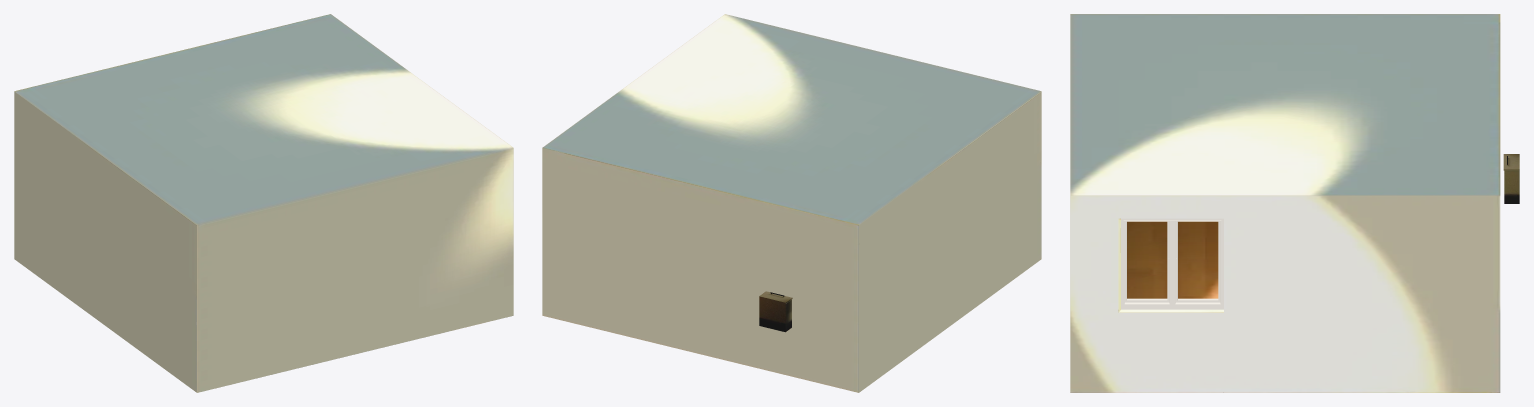
File: mjp-modern-bedroom.glb
3 renders of one model, left to right at view 1: azimuth 30°, elevation 25°; view 2: azimuth 150°, elevation 25°; view 3: azimuth 270°, elevation 25°, orthographic. The views are drawn at different scales.
Parts seen in each view (by area): view 1: Cube.002_0; view 2: Cube.002_0, Cube; view 3: Cube.002_0, windowsill_0, Cube.
Part boxes in pixels (x1,y1,x2,y2): Cube.002_0: [14, 14, 513, 392]; Cube.002_0: [542, 14, 1041, 392]; Cube: [759, 291, 792, 332]; Cube.002_0: [1070, 14, 1500, 392]; windowsill_0: [1121, 218, 1223, 309]; Cube: [1503, 154, 1519, 203].
Size of the model in its own units: 4.98 by 2.52 by 5.2.
17 materials, 14 textured.
